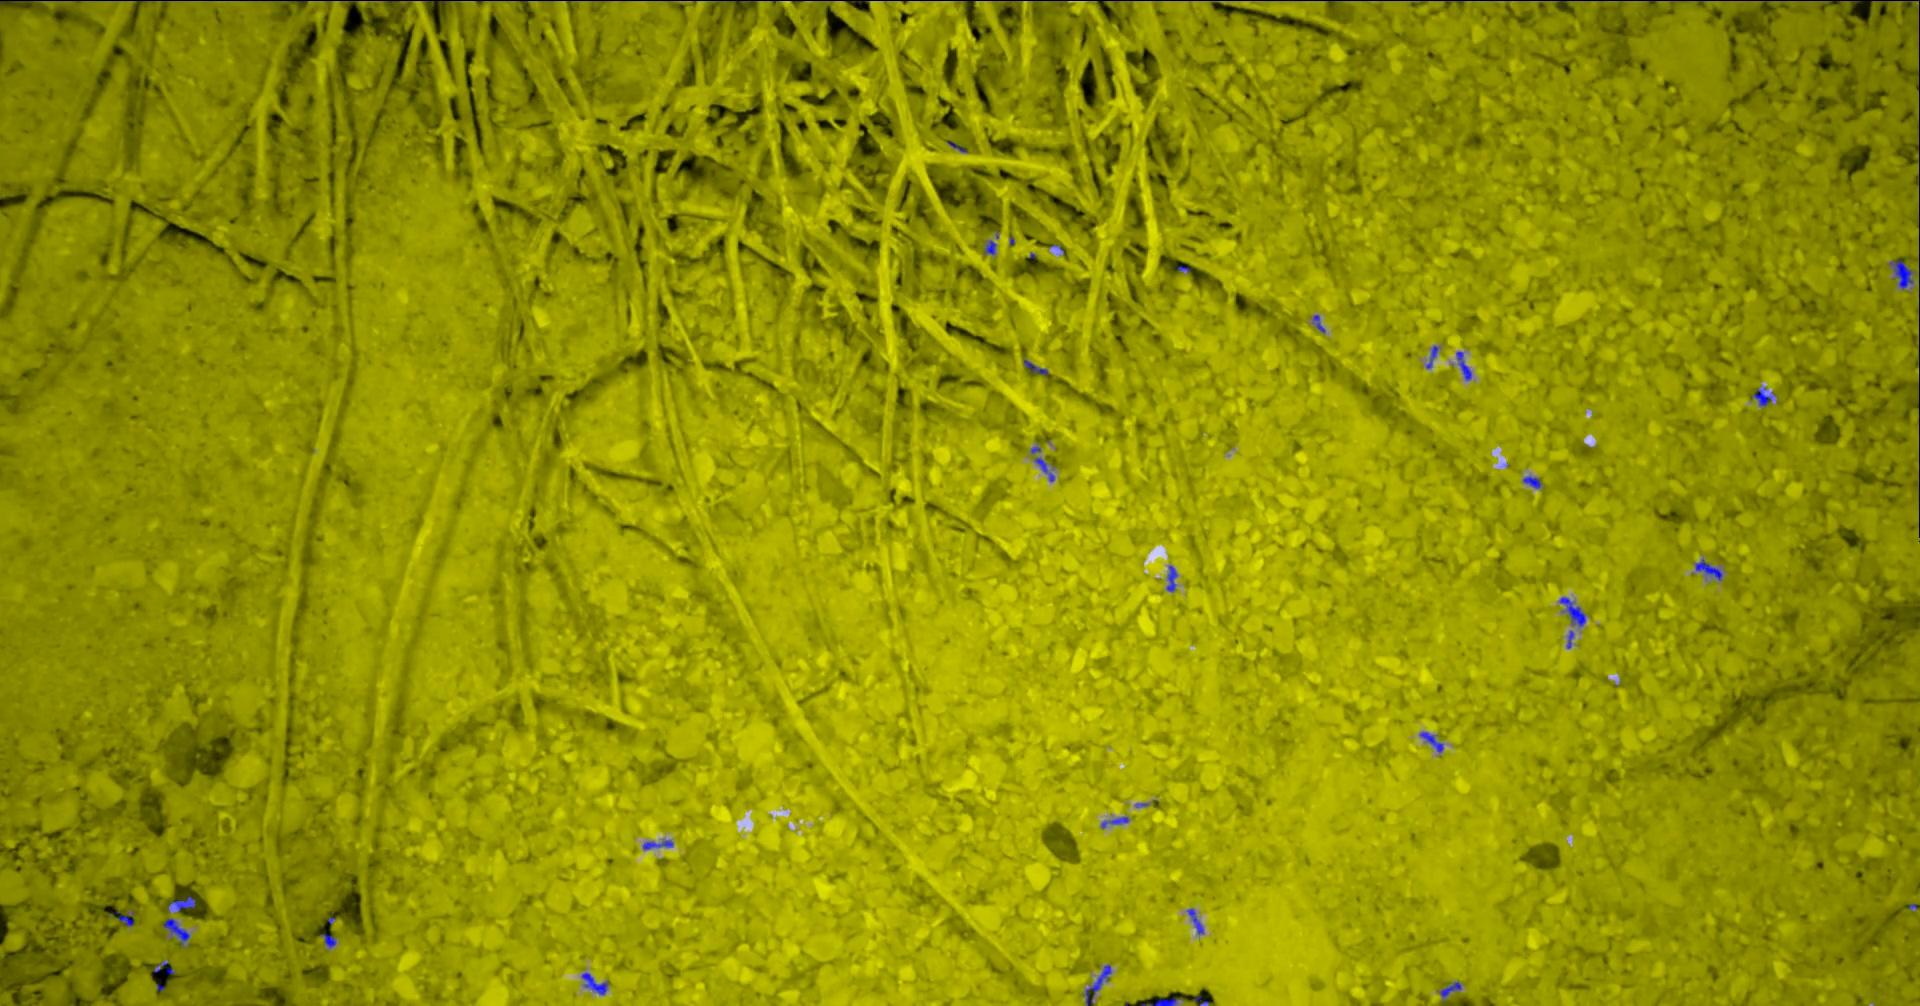ant: (1084, 964, 1110, 1005), (1558, 596, 1585, 626), (163, 917, 189, 945), (1890, 259, 1912, 290), (1694, 558, 1722, 579), (582, 972, 607, 995), (1418, 730, 1443, 752), (1439, 981, 1462, 1001), (1455, 351, 1470, 380), (168, 895, 196, 911), (1186, 908, 1203, 934), (109, 909, 133, 926), (1751, 387, 1771, 406), (1023, 359, 1048, 375), (1101, 815, 1128, 828), (152, 959, 174, 974), (1425, 345, 1437, 368), (1140, 997, 1178, 1005), (643, 840, 673, 848), (1166, 565, 1176, 591), (1523, 475, 1542, 488), (319, 934, 335, 948), (983, 240, 996, 254)
